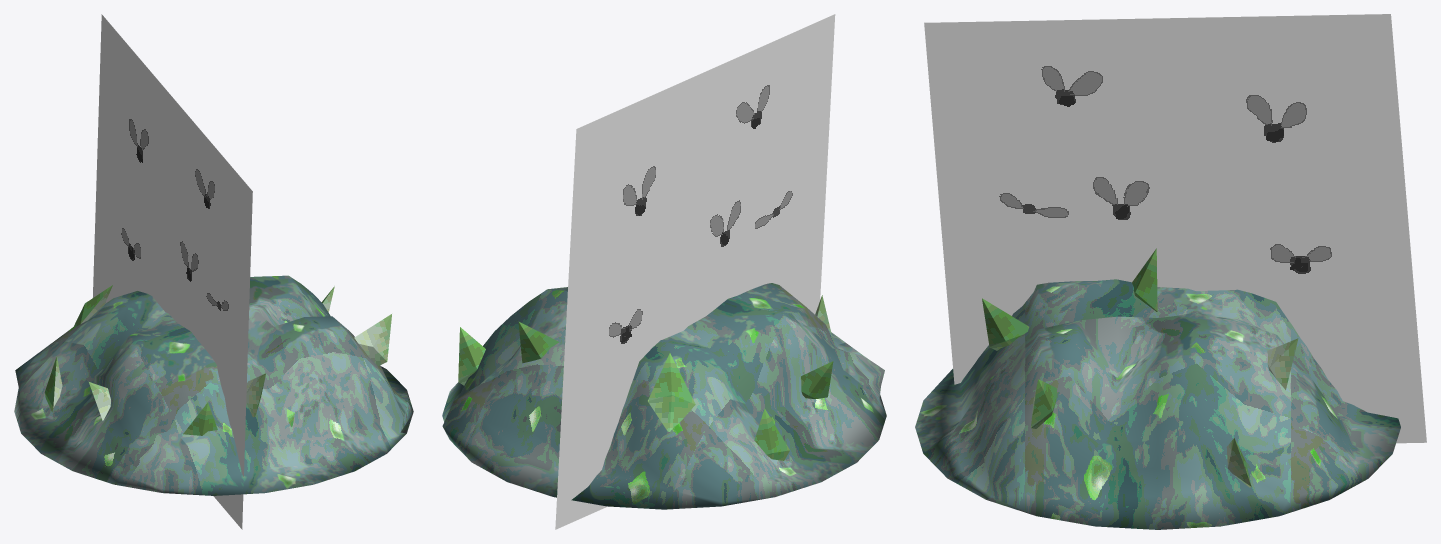
Rendered from Ore.gltf.
3 views of the same model, side by side, from view 1: azimuth 30°, elevation 25°; view 2: azimuth 150°, elevation 25°; view 3: azimuth 270°, elevation 25° (orthographic). The views are drawn at different scales.
Visible parts, largest first — view 1: Cube, fliez, crystal.002, crystal.008, crystal.007, crystal.001, crystal.004, crystal.005; view 2: fliez, Cube, crystal.004, crystal.007, crystal.006, crystal.003, crystal.005; view 3: fliez, Cube, crystal.001, crystal, crystal.003, crystal.002, crystal.006.
Part boxes in pixels (bbox=[...]): Cube: bbox=[14, 275, 413, 495]; fliez: bbox=[93, 14, 252, 529]; crystal.002: bbox=[354, 314, 391, 365]; crystal.008: bbox=[183, 402, 217, 435]; crystal.007: bbox=[44, 356, 62, 411]; crystal.001: bbox=[246, 373, 265, 417]; crystal.004: bbox=[74, 285, 112, 326]; crystal.005: bbox=[89, 382, 110, 420]; fliez: bbox=[555, 14, 835, 529]; Cube: bbox=[442, 283, 886, 509]; crystal.004: bbox=[648, 353, 695, 431]; crystal.007: bbox=[754, 408, 789, 460]; crystal.006: bbox=[458, 327, 485, 385]; crystal.003: bbox=[518, 321, 559, 363]; crystal.005: bbox=[801, 361, 833, 398]; fliez: bbox=[924, 14, 1426, 443]; Cube: bbox=[915, 279, 1400, 529]; crystal.001: bbox=[982, 298, 1029, 350]; crystal: bbox=[1132, 248, 1157, 311]; crystal.003: bbox=[1267, 338, 1298, 389]; crystal.002: bbox=[1031, 379, 1057, 428]; crystal.006: bbox=[1226, 438, 1251, 487].
Bounding box in the file's own units: 4.22 × 4.4 × 4.44.
Materials: 3 (3 with a texture image).
